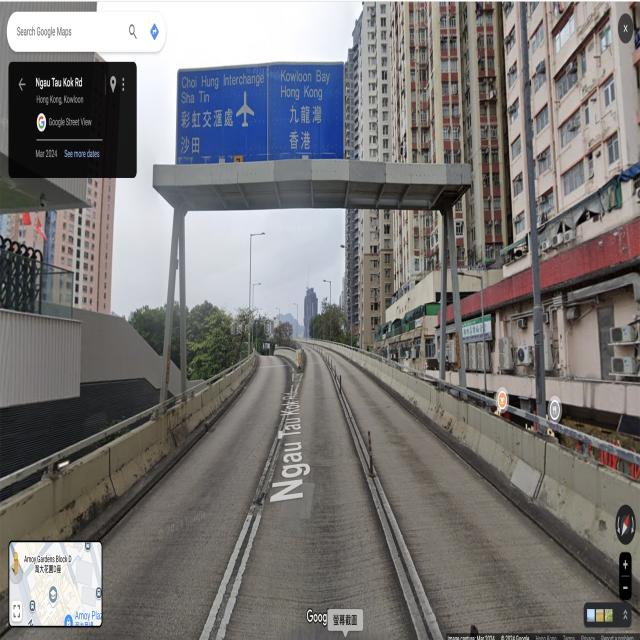Direction-Sign: (175, 62, 345, 165)
